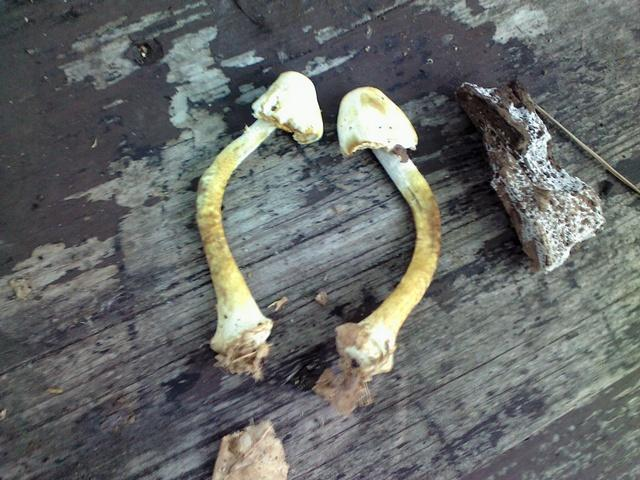poisonous_mushroom: (294, 79, 451, 426), (193, 67, 324, 375)
